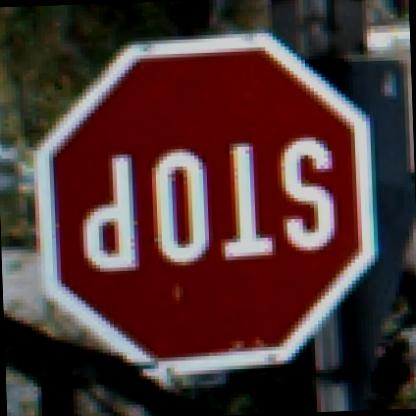stop: (31, 27, 387, 404)
